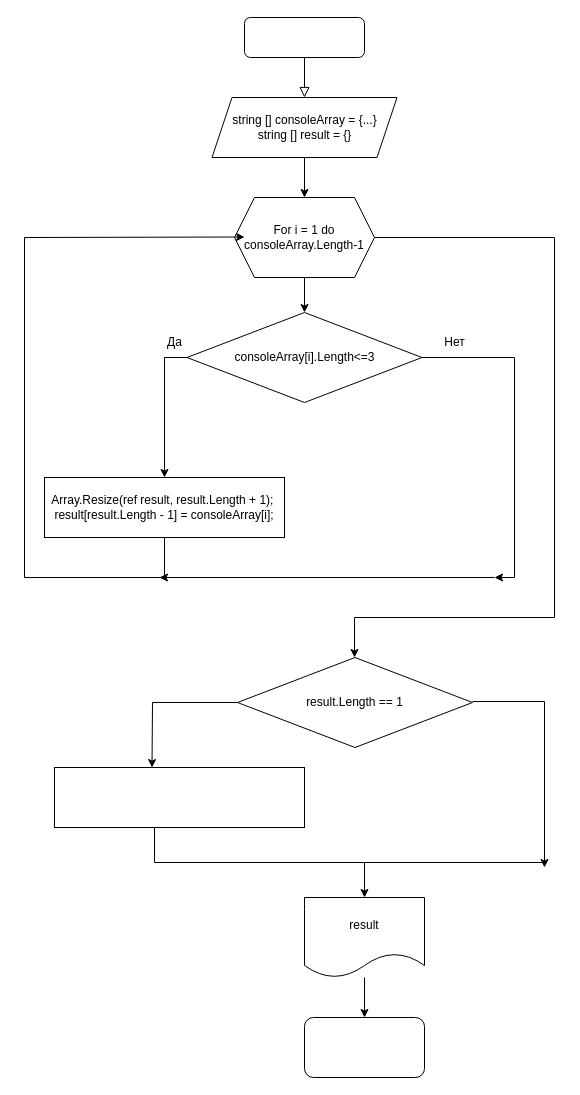
Image size: 580x1095. Some labels were removed from this diagram. Each missing label, with the box of its shape:
result[result.Length - 1] = "Нет рузультата!";: (54, 766, 304, 828)
Конец: (304, 1016, 424, 1078)
Начало: (244, 16, 364, 58)
